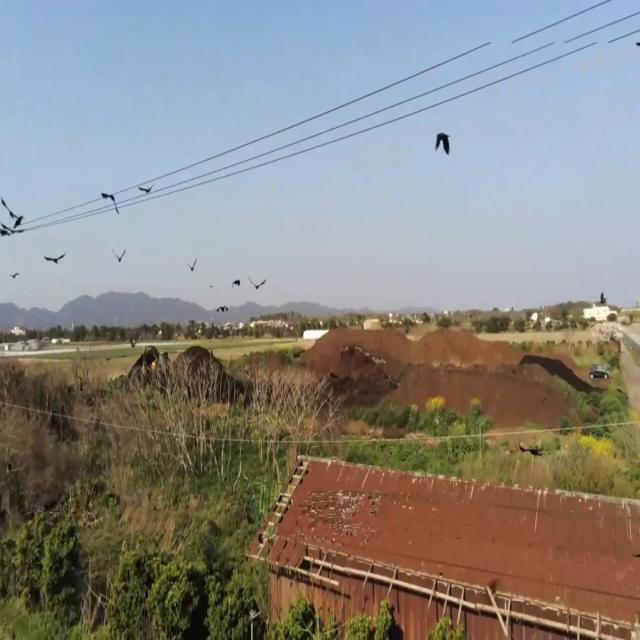bird: (1, 195, 22, 233), (434, 123, 451, 164), (101, 184, 119, 221), (44, 245, 66, 272), (250, 272, 266, 296), (114, 245, 126, 268), (232, 272, 241, 292), (217, 301, 228, 317), (189, 255, 197, 275), (11, 267, 19, 283), (636, 32, 640, 54)
